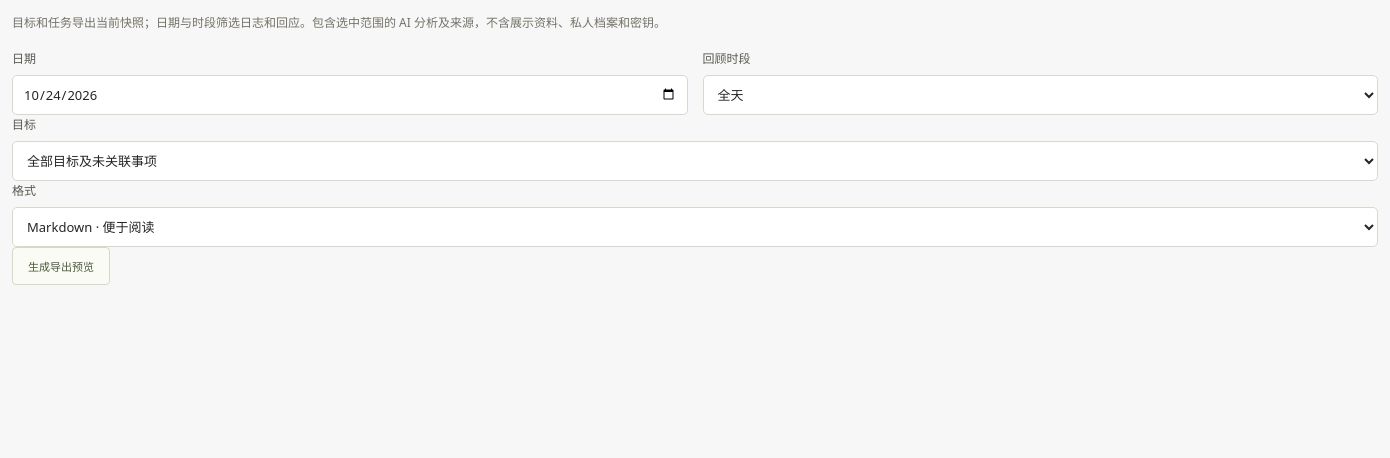
Test: invalidates export preview when its selection changes
Click the button "生成导出预览".
click(61, 266)  # box [12,247,110,285]
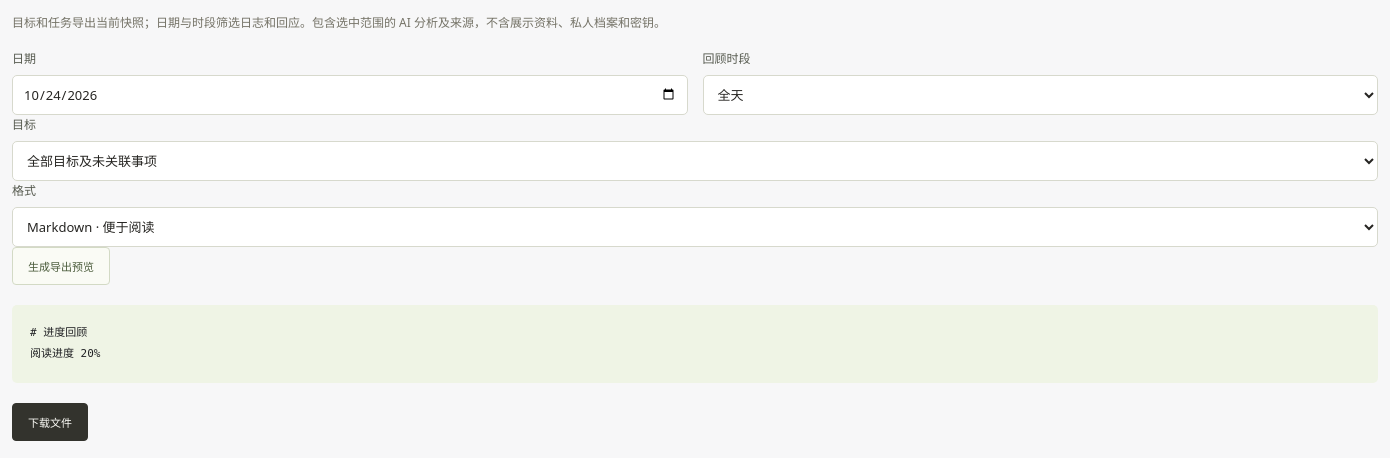
Expected: the button "下载文件" is shown, [12,403,88,441]
Select "阅读计划" in the dropdown labelled "目标" at (695, 161), box [12,141,1378,181]
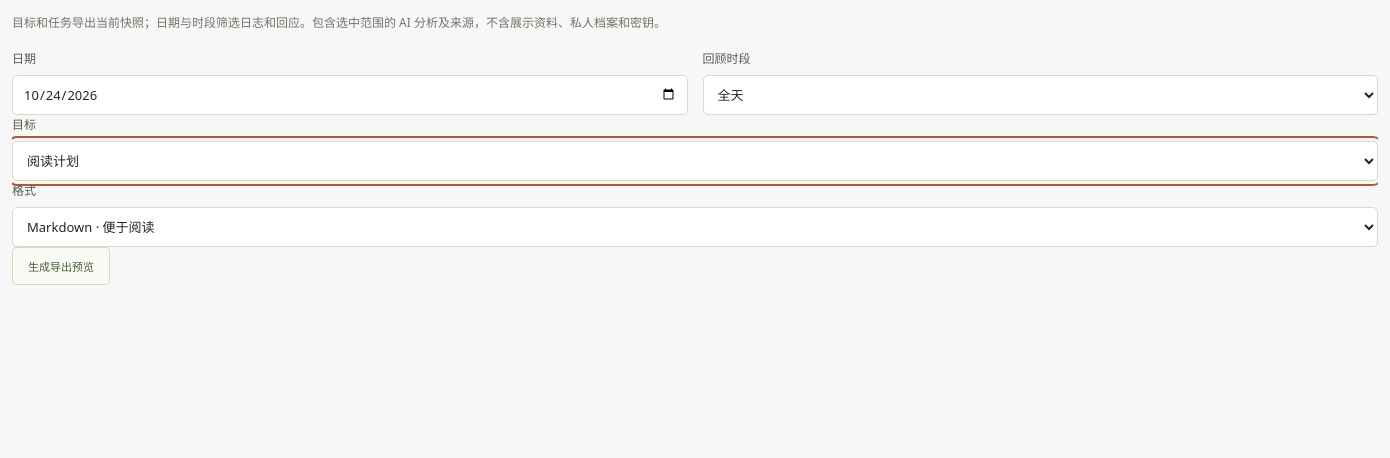
Expected: the button "下载文件" is gone
